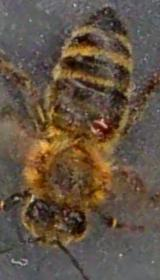varroa_mite: (78, 115, 116, 135)
